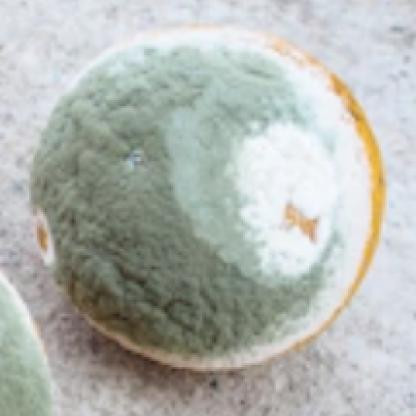rotten: (29, 26, 391, 375)
